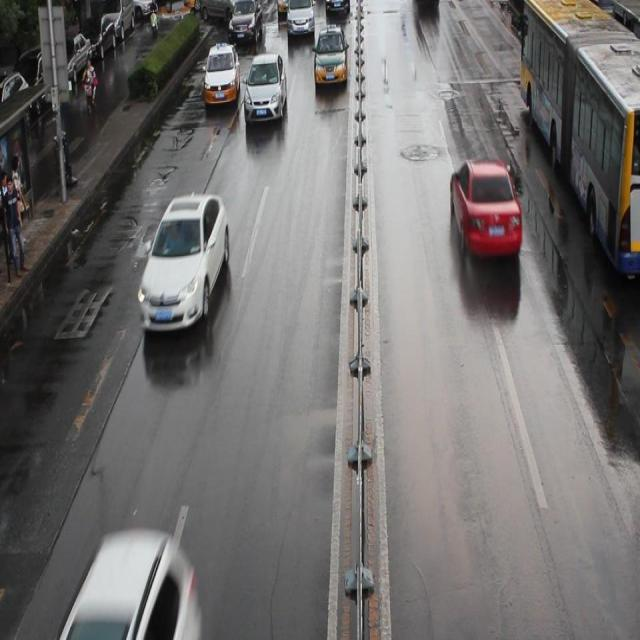car: (61, 533, 198, 640), (137, 191, 229, 329), (448, 156, 521, 256), (244, 53, 288, 122), (203, 43, 240, 105), (313, 25, 348, 85), (227, 1, 262, 42), (200, 2, 246, 15), (276, 1, 302, 14), (323, 1, 350, 12)
truck: (286, 2, 315, 34), (412, 1, 438, 7)
van: (518, 1, 640, 275)
